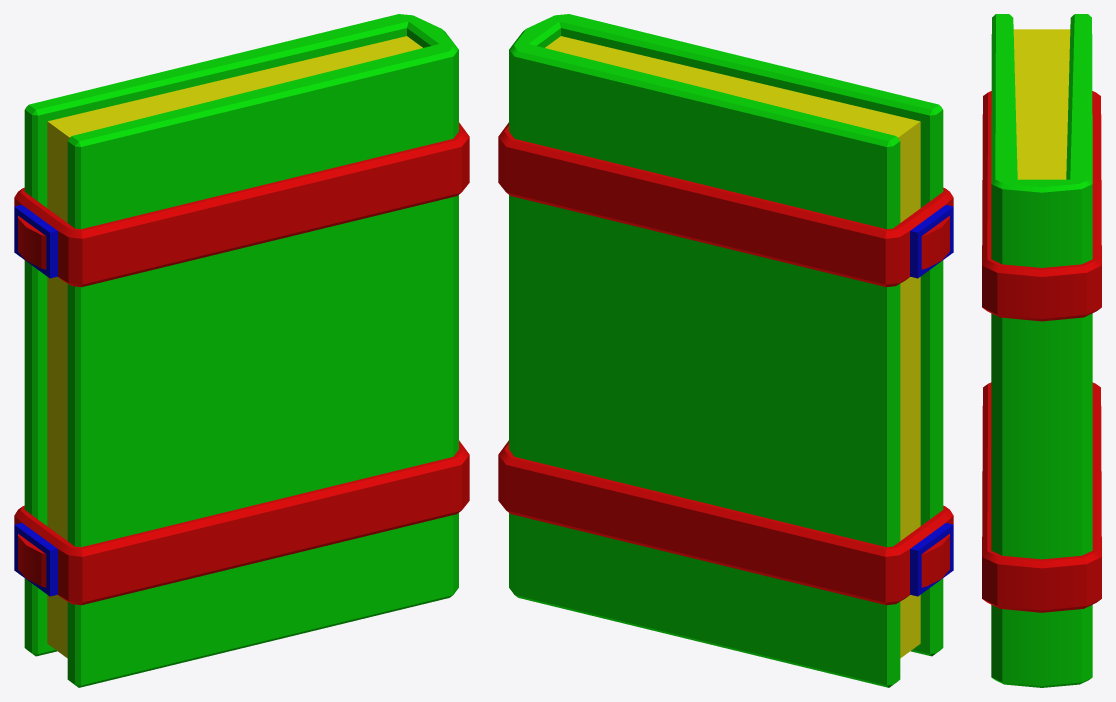
The model's file is bible.fbx.
3 views of the same model, side by side, from view 1: azimuth 30°, elevation 25°; view 2: azimuth 150°, elevation 25°; view 3: azimuth 270°, elevation 25° (orthographic). The views are drawn at different scales.
Visible parts, largest first — view 1: Bible; view 2: Bible; view 3: Bible.
Part boxes in pixels (left/top/right/bottom): Bible: left=14, top=14, right=469, bottom=687; Bible: left=498, top=14, right=953, bottom=687; Bible: left=982, top=14, right=1101, bottom=687.
Size of the model in its own units: 3.4 by 4.14 by 0.8989.
